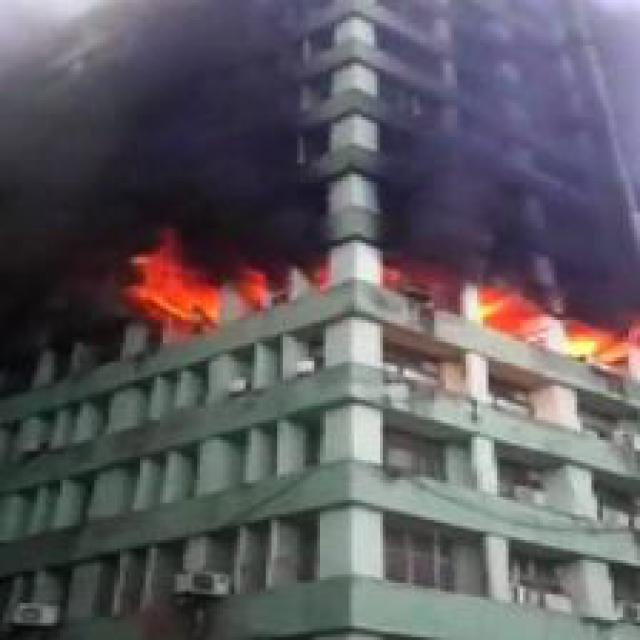fire: (97, 214, 320, 337), (446, 254, 637, 377)
